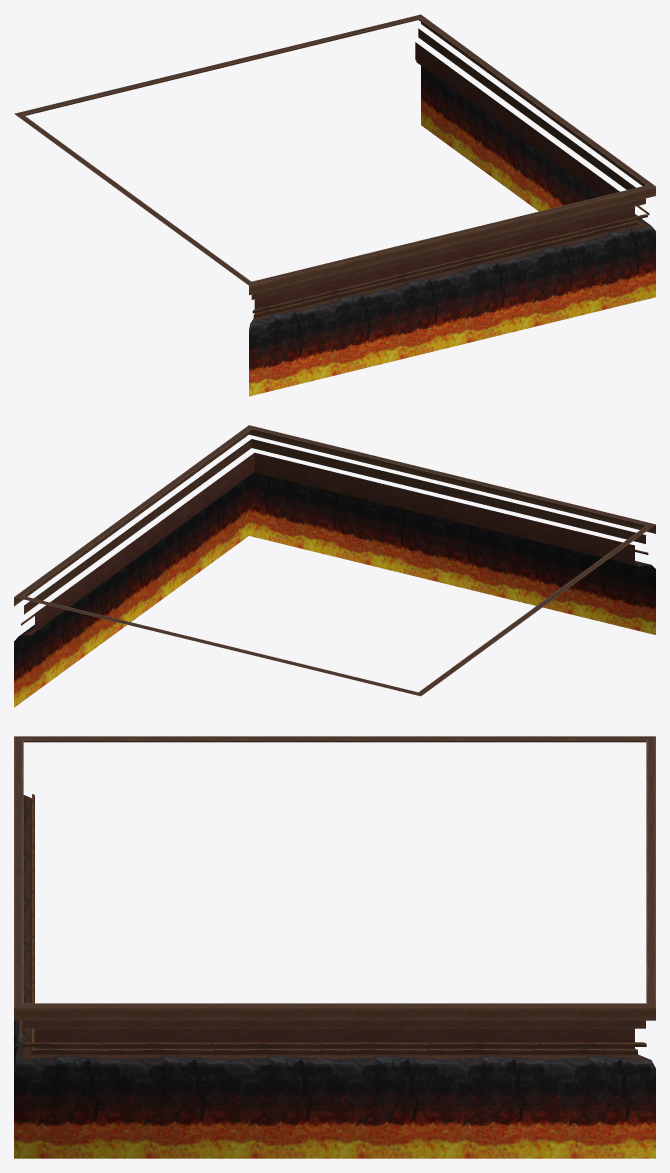
File: M11_T_qiangbi.FBX
3 renders of one model, top to bottom at view 1: azimuth 30°, elevation 25°; view 2: azimuth 150°, elevation 25°; view 3: azimuth 270°, elevation 25°, orthographic. The views are drawn at different scales.
Visible parts, largest first — view 1: M11_T_qiangbi; view 2: M11_T_qiangbi; view 3: M11_T_qiangbi.
Part boxes in pixels (x1,y1,x2,y2): M11_T_qiangbi: (14, 14, 655, 396); M11_T_qiangbi: (14, 425, 655, 707); M11_T_qiangbi: (14, 736, 655, 1158).
Bounding box in the file's own units: 4168 × 1084 × 4168.
